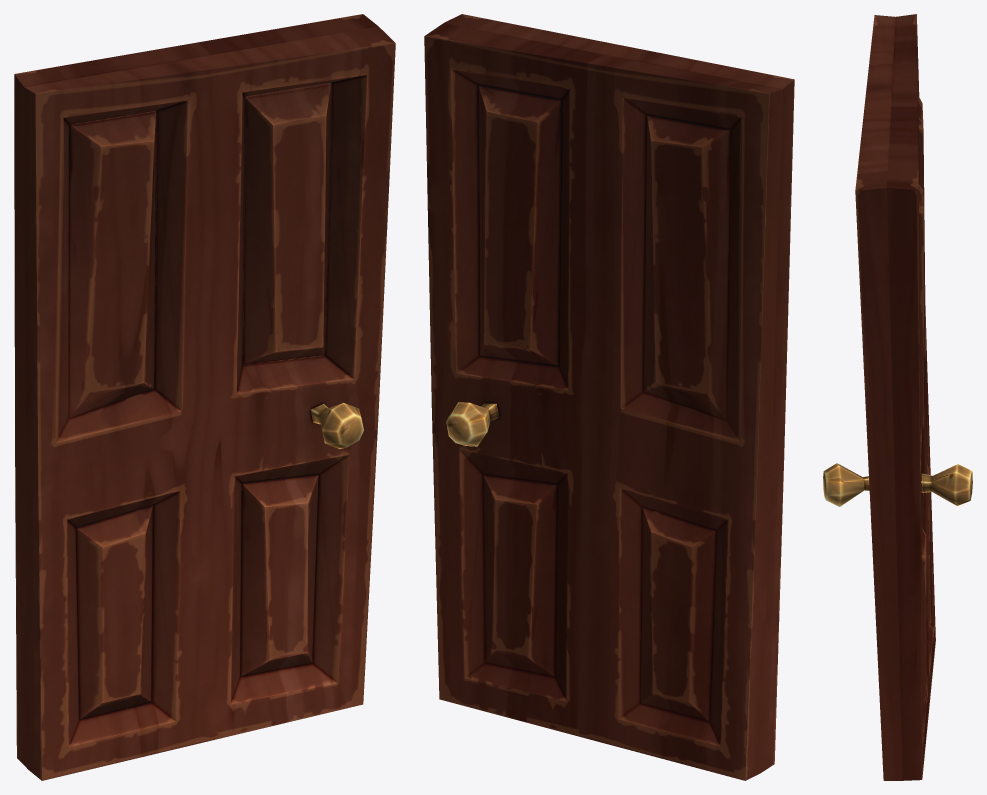
Rendered from Door.FBX.
3 views of the same model, side by side, from view 1: azimuth 30°, elevation 25°; view 2: azimuth 150°, elevation 25°; view 3: azimuth 270°, elevation 25° (orthographic). The views are drawn at different scales.
Visible parts, largest first — view 1: Object001; view 2: Object001; view 3: Object001.
Part boxes in pixels (x1,y1,x2,y2): Object001: (14,14,395,780); Object001: (424,14,794,780); Object001: (823,14,972,780).
Size of the model in its own units: 109 by 207 by 45.02.
